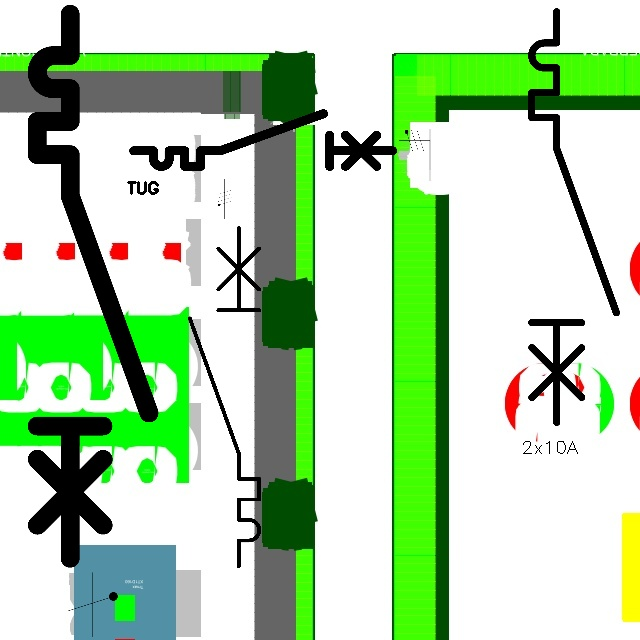interruptor_termomagnetico: (23, 0, 163, 572), (521, 1, 627, 433), (181, 219, 268, 574), (127, 107, 399, 173)
